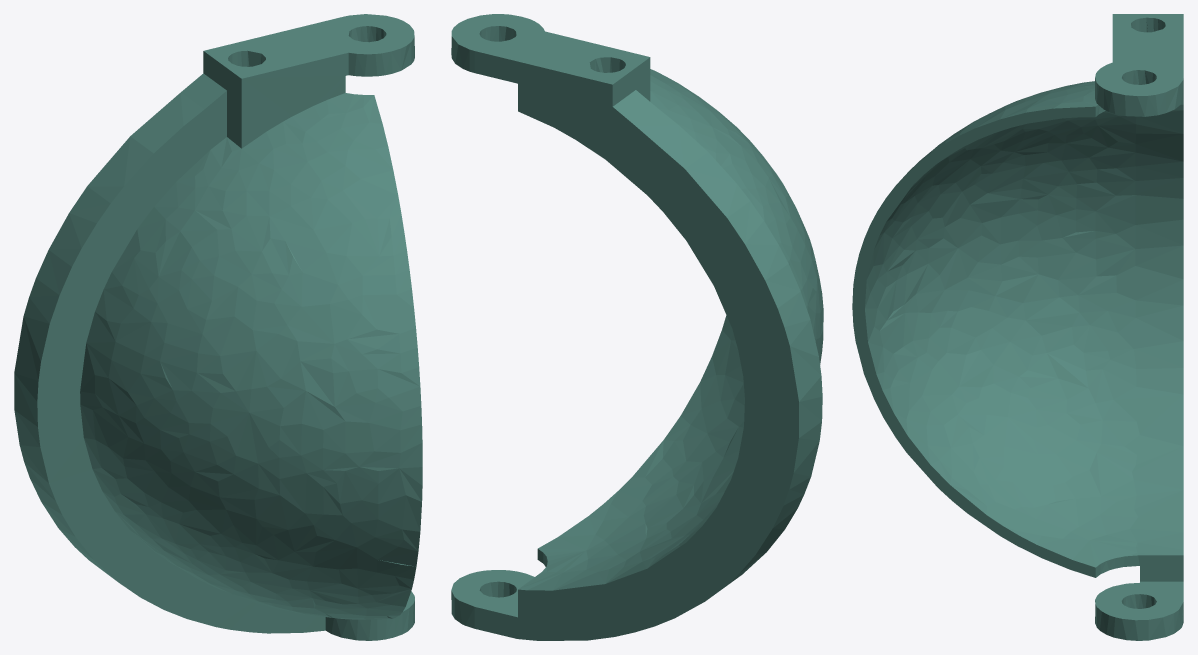
Rendered from i02_head_right_bottom_eyelid_visual.obj.
3 renders of one model, left to right at view 1: azimuth 30°, elevation 25°; view 2: azimuth 150°, elevation 25°; view 3: azimuth 270°, elevation 25°, orthographic. The views are drawn at different scales.
Parts seen in each view (by area): view 1: i02_head_right_bottom_eyelid_visual.001; view 2: i02_head_right_bottom_eyelid_visual.001; view 3: i02_head_right_bottom_eyelid_visual.001.
Boxes of the visible parts, x1,y1,x2,y2 form: i02_head_right_bottom_eyelid_visual.001: (14, 14, 422, 640); i02_head_right_bottom_eyelid_visual.001: (451, 14, 823, 640); i02_head_right_bottom_eyelid_visual.001: (852, 14, 1183, 640).
Bounding box in the file's own units: 0.2114 × 0.3195 × 0.1761.
